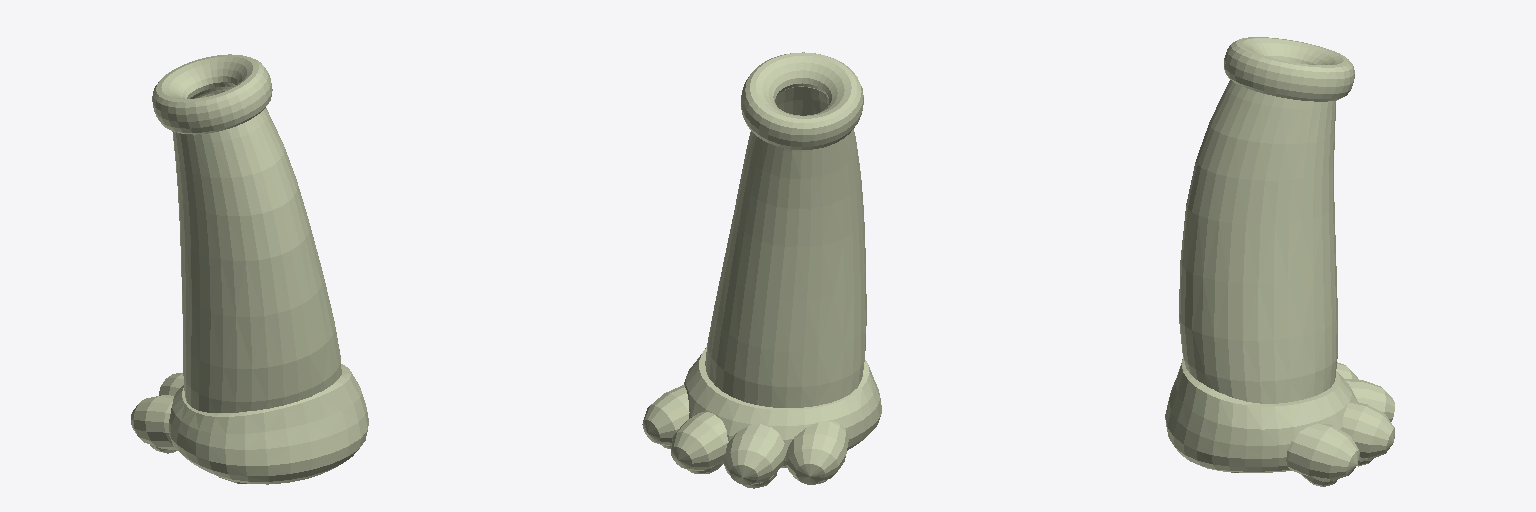
The model's file is bootsfix.obj.
The picture shows the model from 3 angles: view 1: azimuth 30°, elevation 25°; view 2: azimuth 150°, elevation 25°; view 3: azimuth 270°, elevation 25°; orthographic projection.
Visible parts, largest first — view 1: torus22_sep12, torus22_sep11, torus22_sep13, torus22_sep4; view 2: torus22_sep12, torus22_sep13, torus22_sep11, torus22_sep4, torus22_sep6, torus22_sep5, torus22_sep7, torus22; view 3: torus22_sep12, torus22_sep11, torus22_sep13, torus22_sep7, torus22_sep5, torus22_sep6.
Boxes of the visible parts, <box> form: torus22_sep12: <box>172,108,341,412</box>; torus22_sep11: <box>169,364,368,484</box>; torus22_sep13: <box>152,54,272,134</box>; torus22_sep4: <box>131,395,176,449</box>; torus22_sep12: <box>705,129,866,407</box>; torus22_sep13: <box>741,52,863,149</box>; torus22_sep11: <box>684,347,881,467</box>; torus22_sep4: <box>786,421,848,483</box>; torus22_sep6: <box>724,424,786,484</box>; torus22_sep5: <box>671,412,728,470</box>; torus22_sep7: <box>642,385,689,445</box>; torus22: <box>775,87,828,115</box>; torus22_sep12: <box>1179,80,1337,403</box>; torus22_sep11: <box>1165,357,1357,472</box>; torus22_sep13: <box>1224,37,1354,101</box>; torus22_sep7: <box>1286,423,1359,480</box>; torus22_sep5: <box>1343,401,1394,459</box>; torus22_sep6: <box>1345,379,1394,421</box>.
Size of the model in its own units: 23.84 by 46.52 by 24.72.